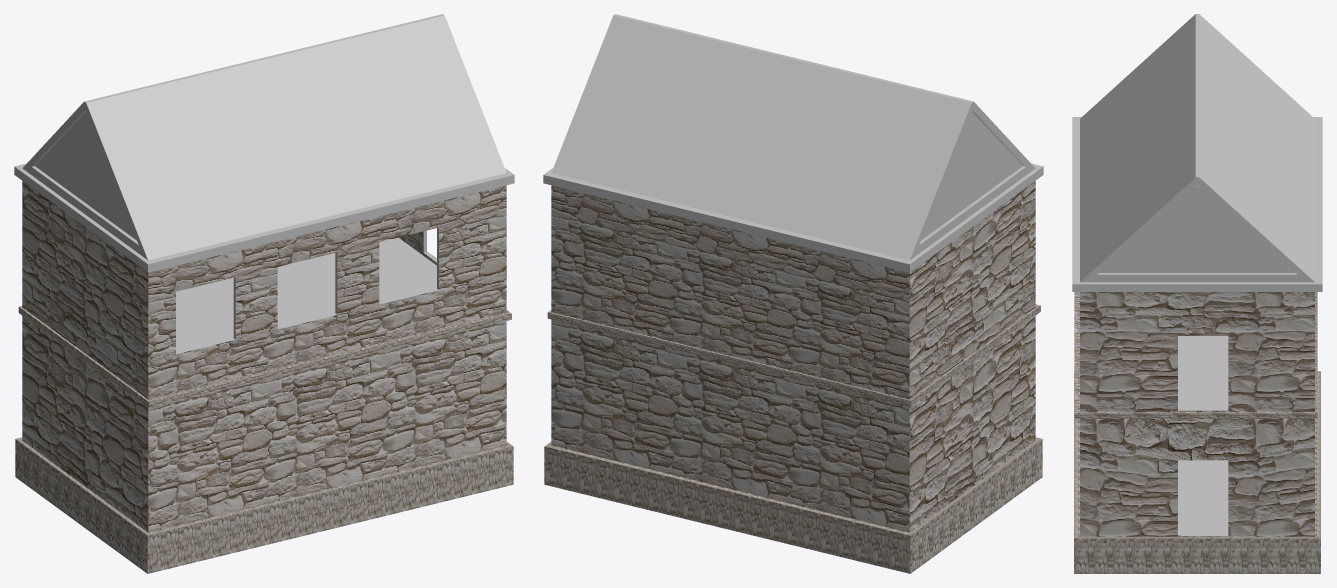
File: SM_House_4.fbx
The picture shows the model from 3 angles, left to right: view 1: azimuth 30°, elevation 25°; view 2: azimuth 150°, elevation 25°; view 3: azimuth 270°, elevation 25°; orthographic projection. The views are drawn at different scales.
Parts seen in each view (by area): view 1: Cube.032; view 2: Cube.032; view 3: Cube.032.
Boxes of the visible parts, x1,y1,x2,y2 form: Cube.032: (14, 14, 514, 573); Cube.032: (543, 14, 1043, 573); Cube.032: (1072, 14, 1322, 573).
Size of the model in its own units: 1160 by 1270 by 729.
